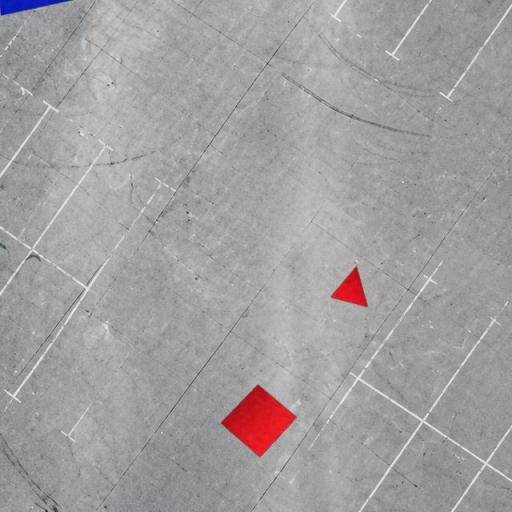RED_SQUARE: (220, 383, 298, 458)
